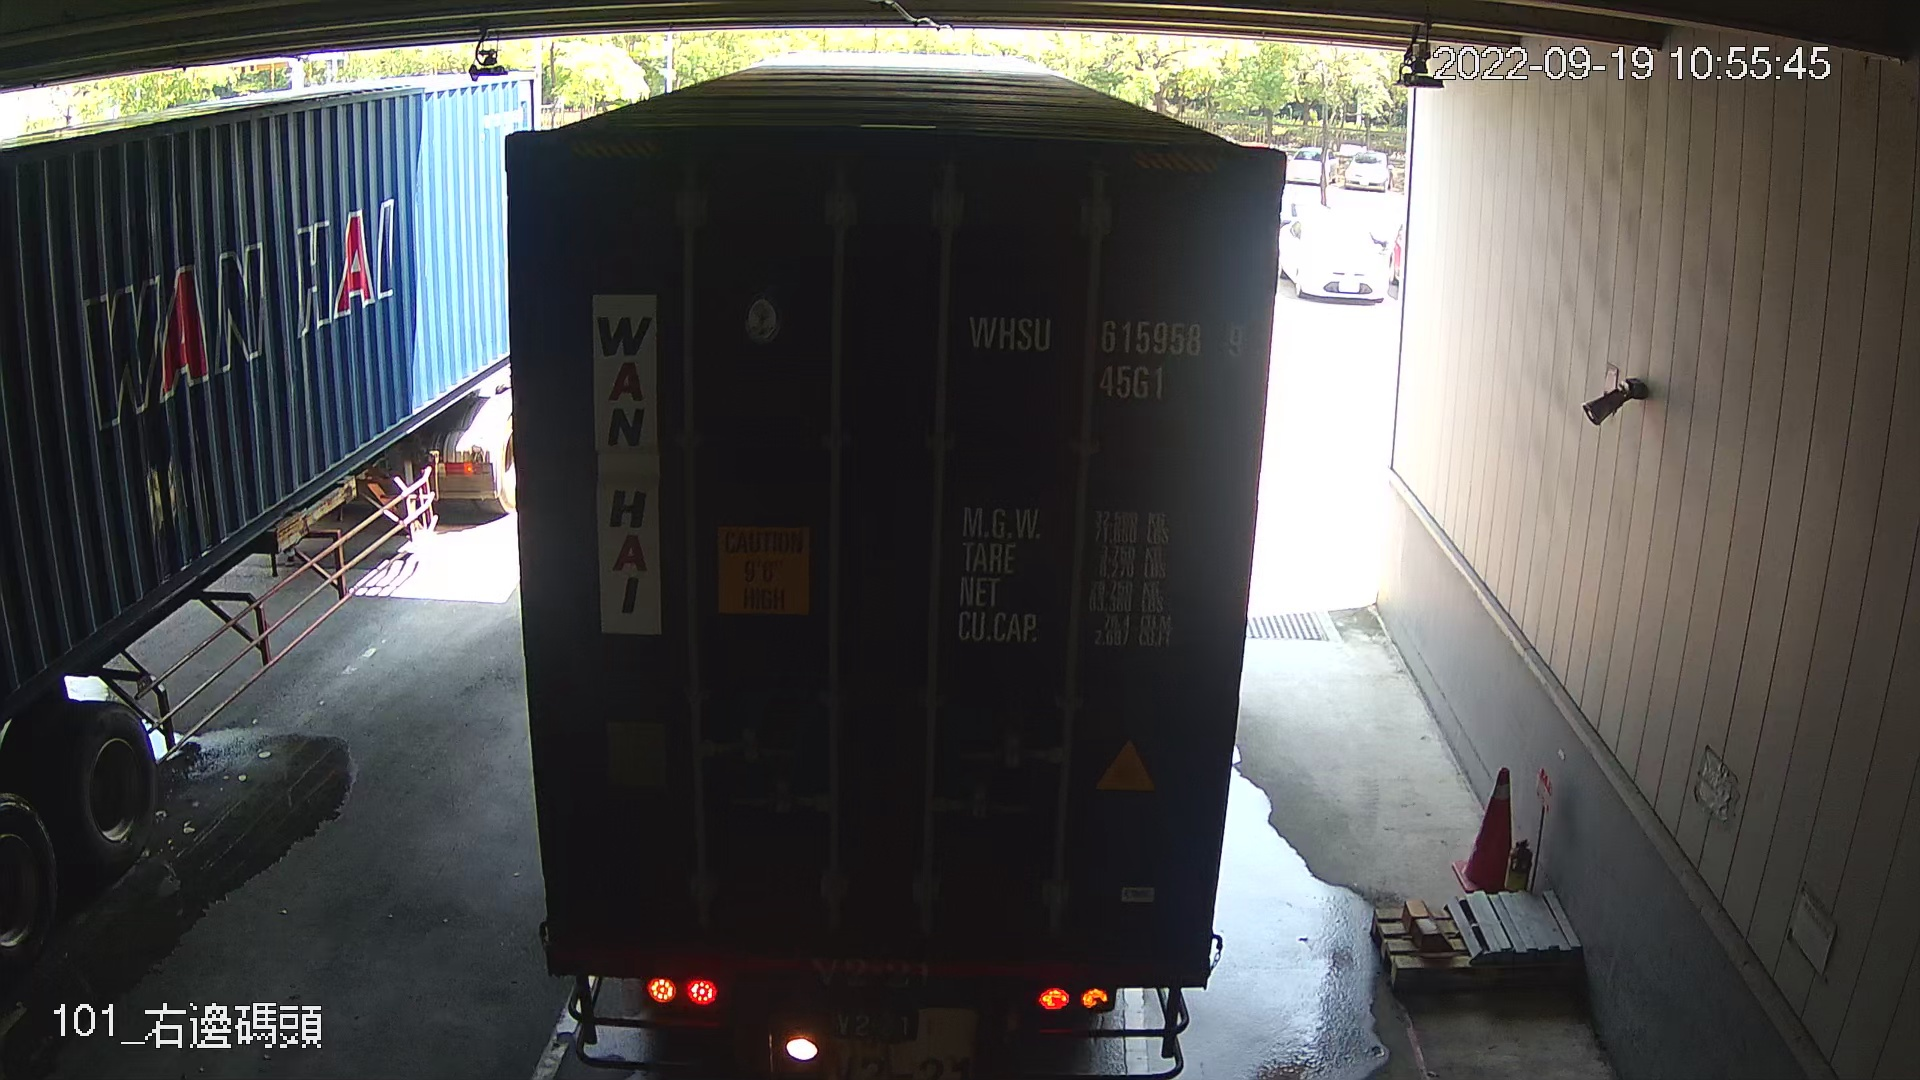container: (960, 302, 1253, 405)
